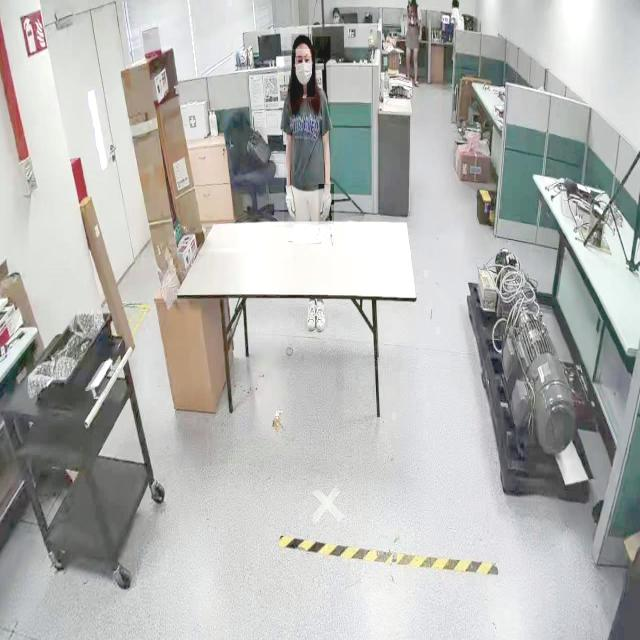face_mask: (294, 56, 316, 98)
hand_glove: (283, 182, 299, 223), (318, 184, 334, 225)
head_nohelmet: (292, 34, 312, 50)
person: (284, 36, 331, 230)
shoes: (314, 298, 328, 336), (305, 296, 317, 334)
